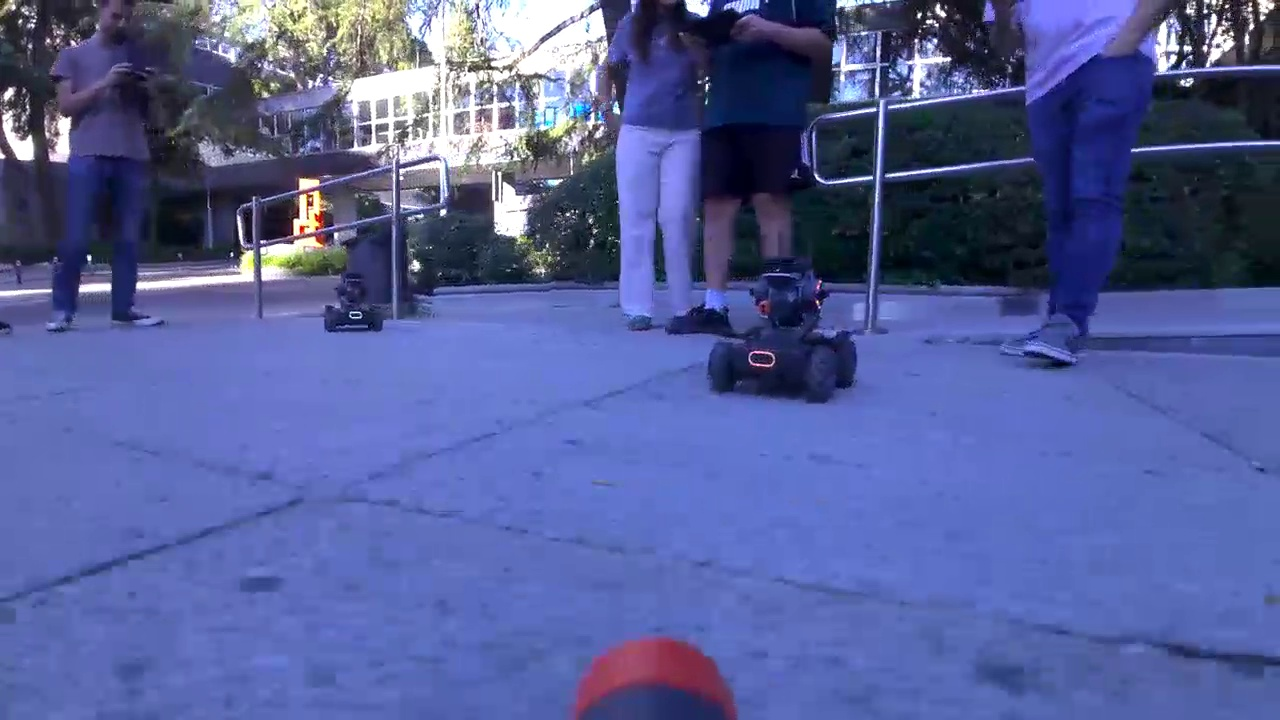robot: (707, 255, 859, 403), (322, 272, 384, 333)
